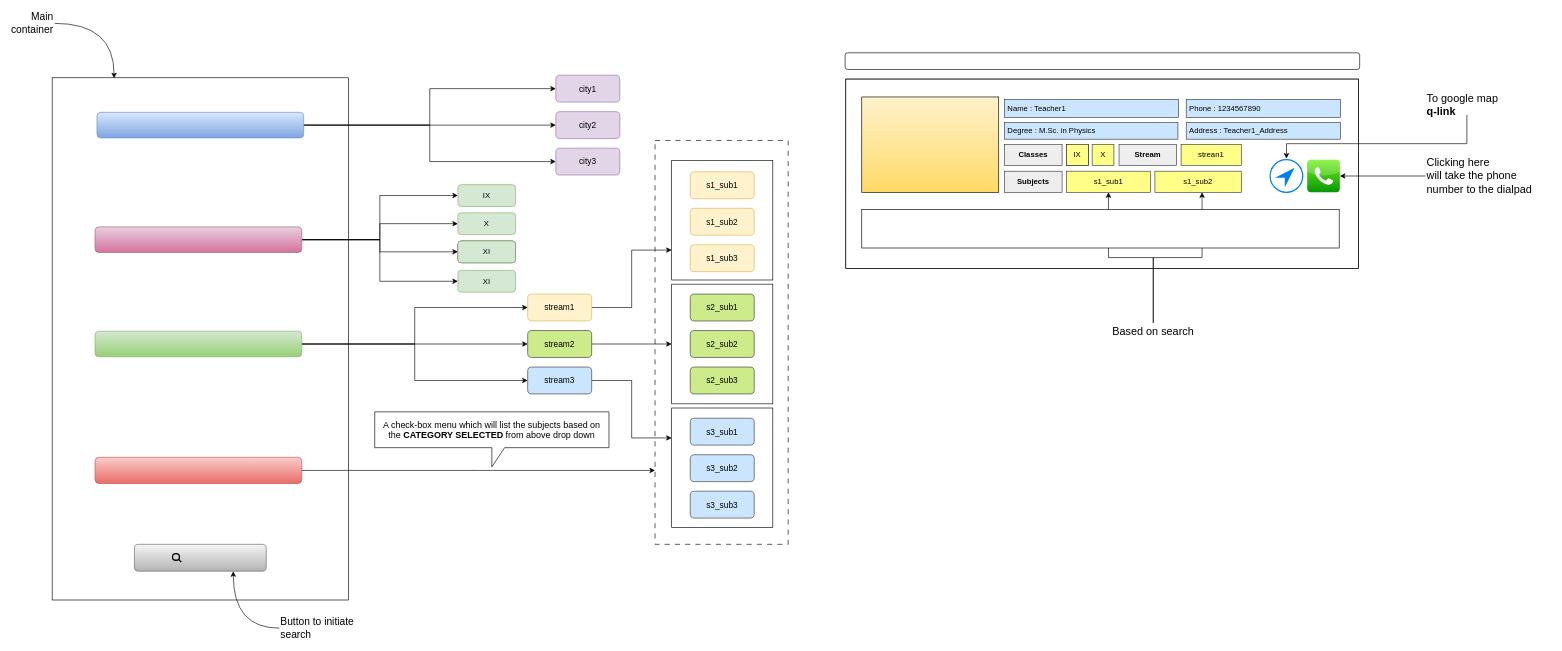
Image size: 1562x651. Some labels were removed from this diagram. Each missing label, with the box of its shape:
Below also we will have same set of data: (861, 209, 1339, 248)
CHOOSE CLASS: (94, 226, 302, 252)
CHOOSE SUBJECT: (94, 457, 302, 484)
FIND: (134, 544, 266, 571)
SEARCH RESULT PAGE: (844, 52, 1360, 69)
SELECT LOCATION: (96, 112, 304, 138)
SUBJECT CATEGORY: (94, 331, 302, 357)
TUITION PHOTO PLACEHOLDER: (861, 96, 999, 192)
